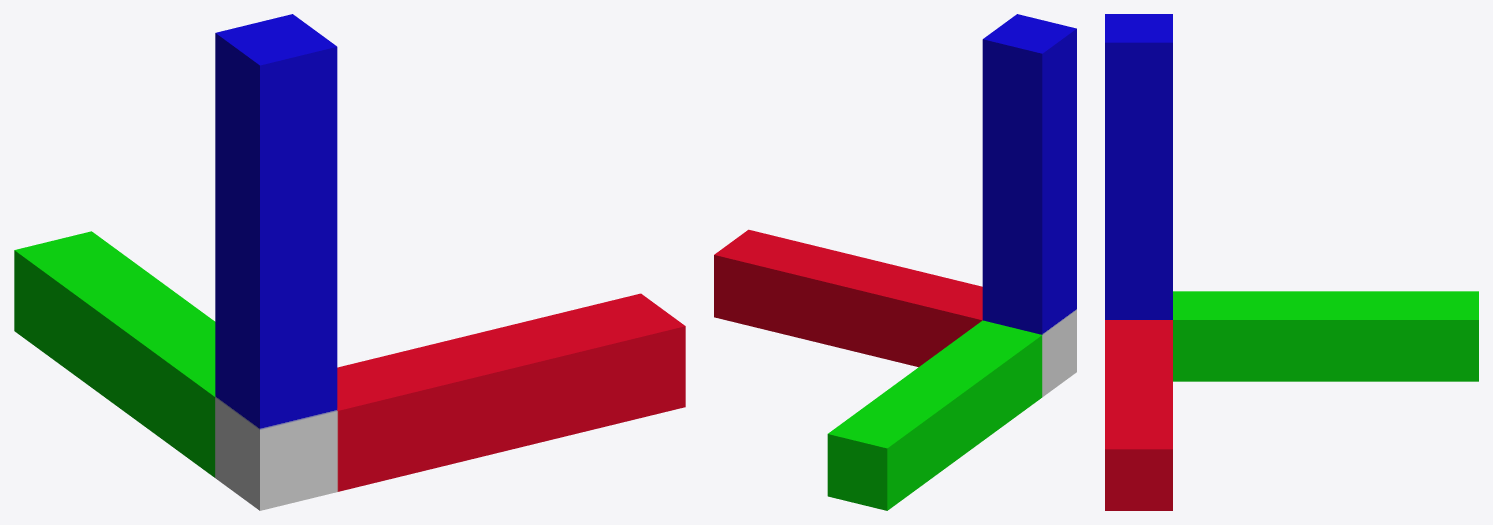
Rendered from frame_z.dae.
3 views of the same model, side by side, from view 1: azimuth 30°, elevation 25°; view 2: azimuth 150°, elevation 25°; view 3: azimuth 270°, elevation 25° (orthographic). The views are drawn at different scales.
Visible parts, largest first — view 1: Cube.002; view 2: Cube.002; view 3: Cube.002.
Part boxes in pixels (bbox=[...]): Cube.002: bbox=[14, 14, 685, 510]; Cube.002: bbox=[714, 14, 1076, 510]; Cube.002: bbox=[1105, 14, 1478, 510].
Size of the model in its own units: 1.1 by 1.1 by 1.1.
1 material, 1 textured.
